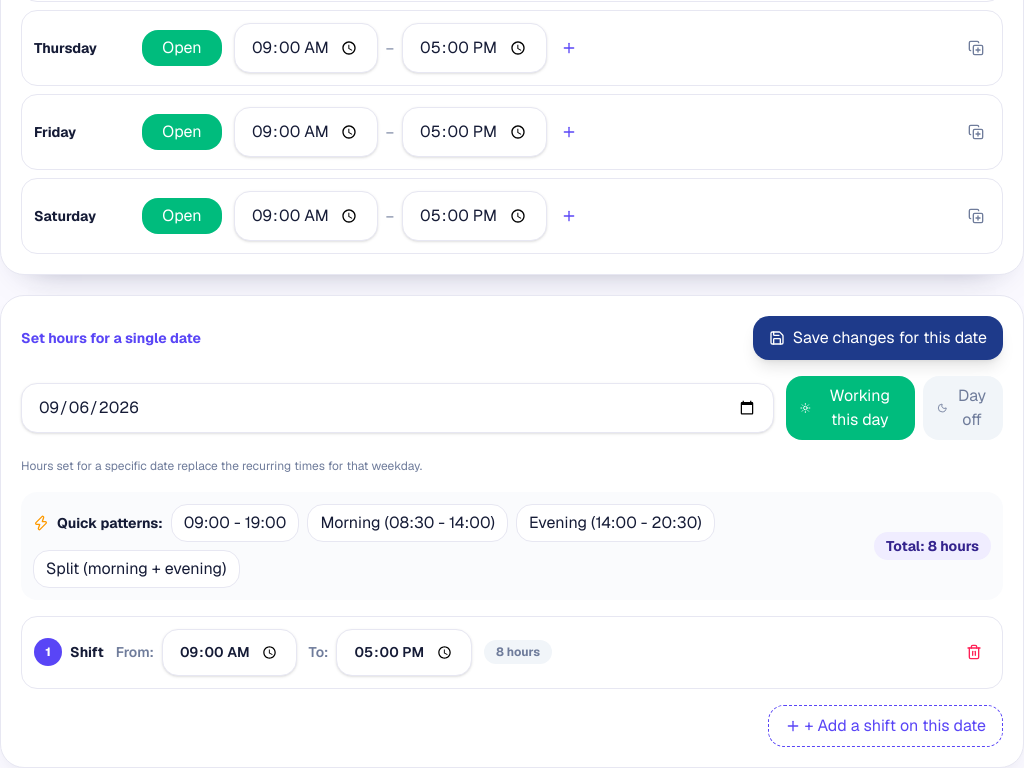
Test: business hours & shifts screen › applies a split-shift pattern as two shifts and totals them
(page scrolled)
Click the button "Split (morning + evening)": (136, 569) [33, 550, 240, 588]
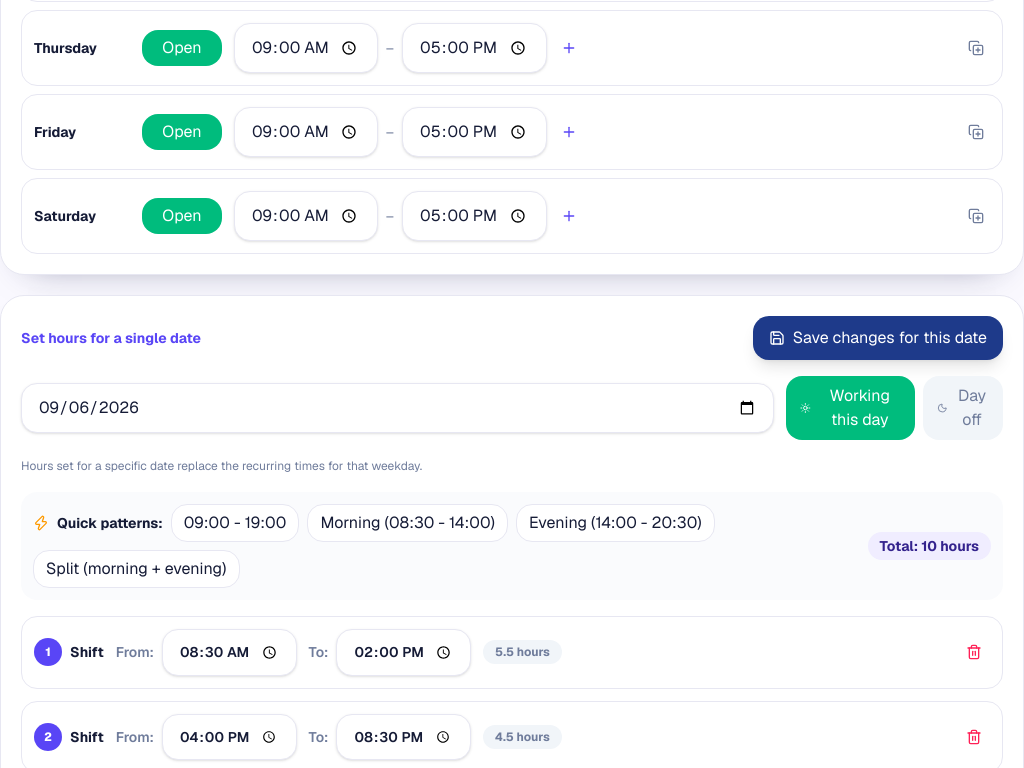
Now the time field showing "08:30" in the row of "5.5 hours" is shown, box [162, 629, 297, 676]
Now the time field showing "16:00" in the row of "4.5 hours" is shown, box [162, 714, 297, 760]
Now the text "Total: 10 hours" is shown, box [868, 532, 991, 560]
